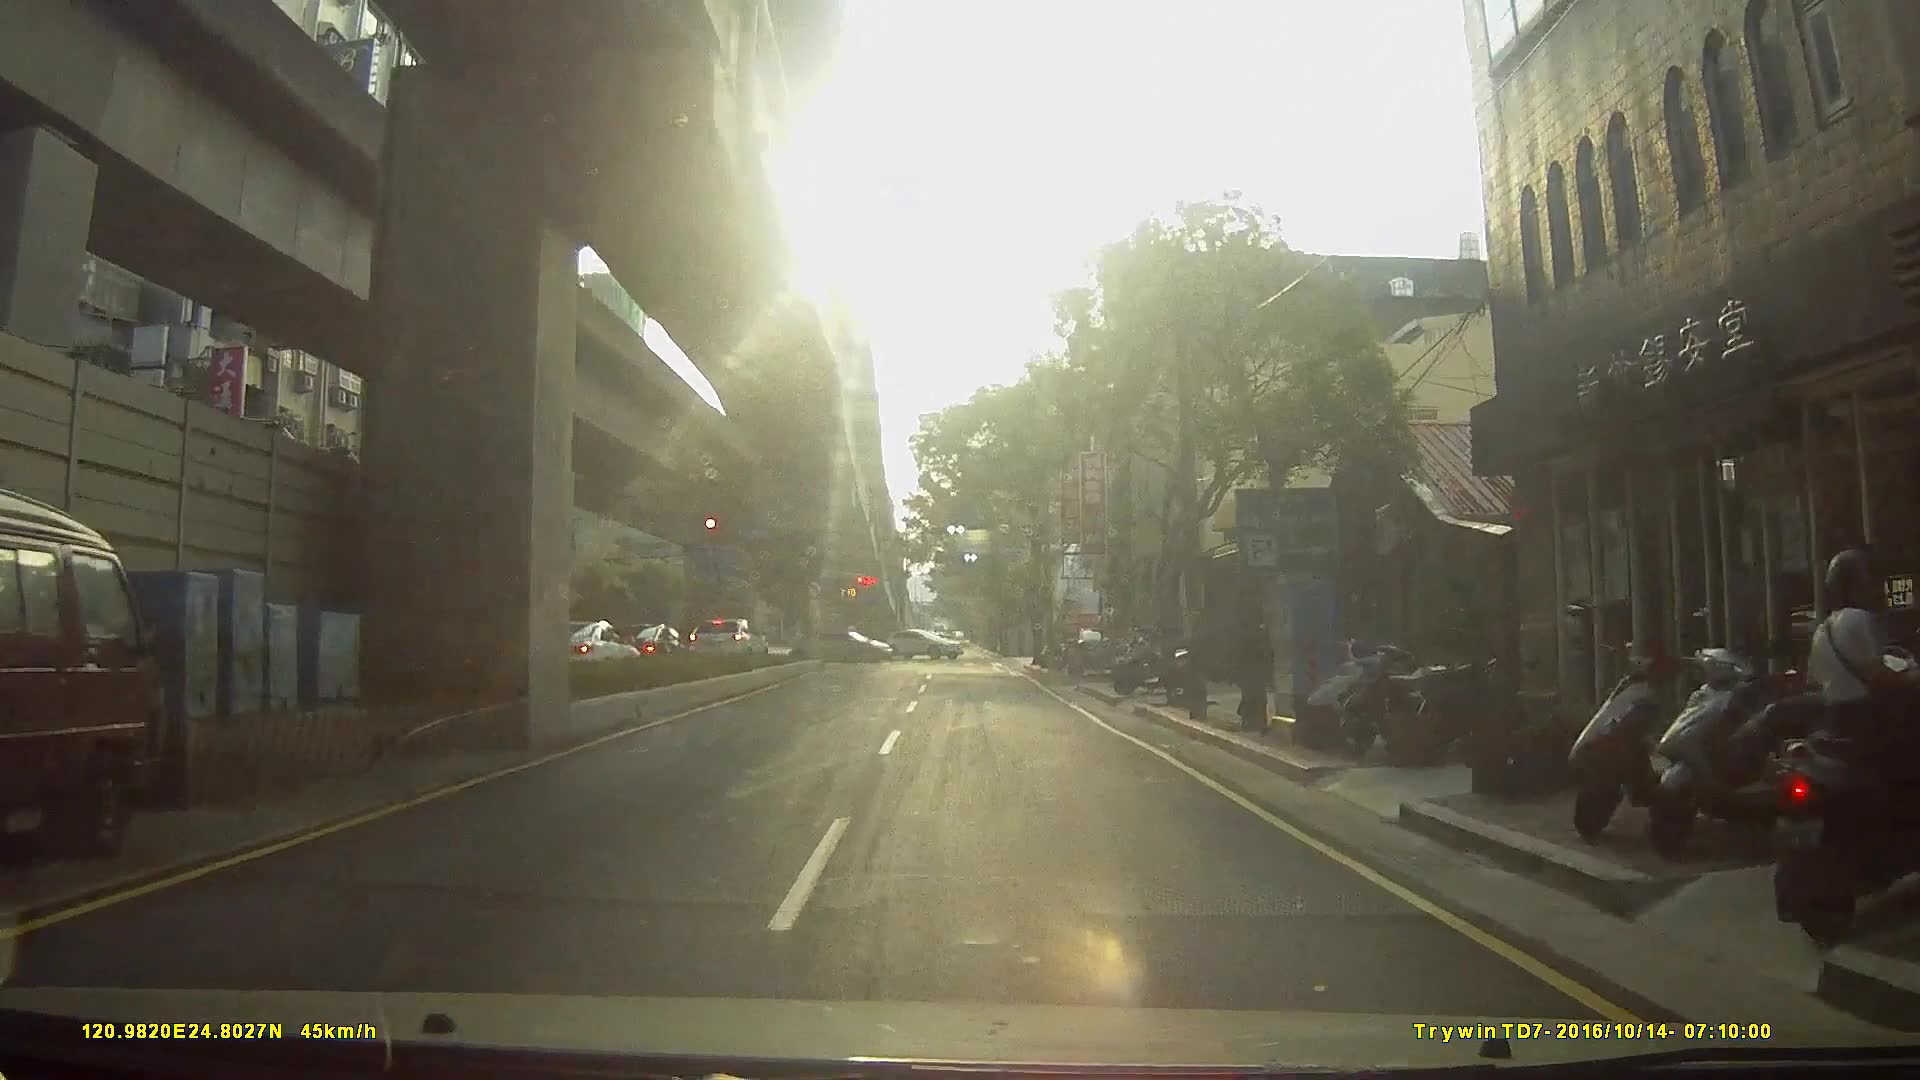rider: (1768, 553, 1911, 942)
vehicle: (1, 483, 189, 885), (528, 618, 637, 682), (605, 621, 694, 672), (684, 617, 768, 665), (796, 627, 895, 665), (1064, 624, 1121, 676), (881, 628, 966, 660)
